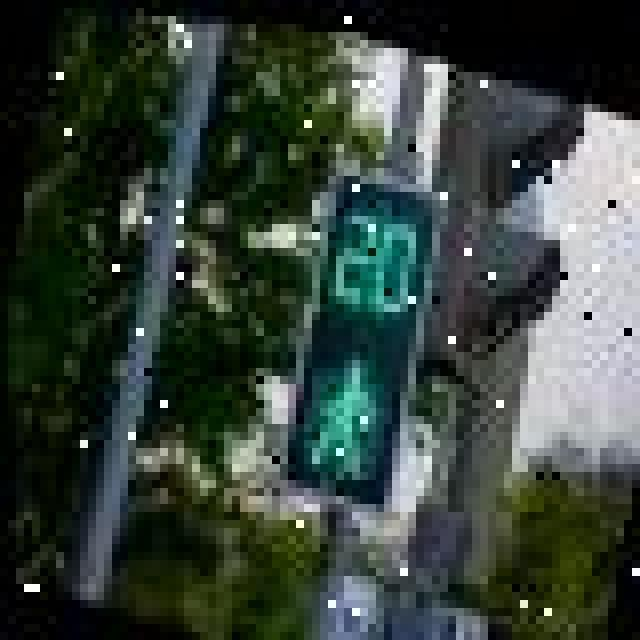greenlight: (298, 171, 426, 515)
